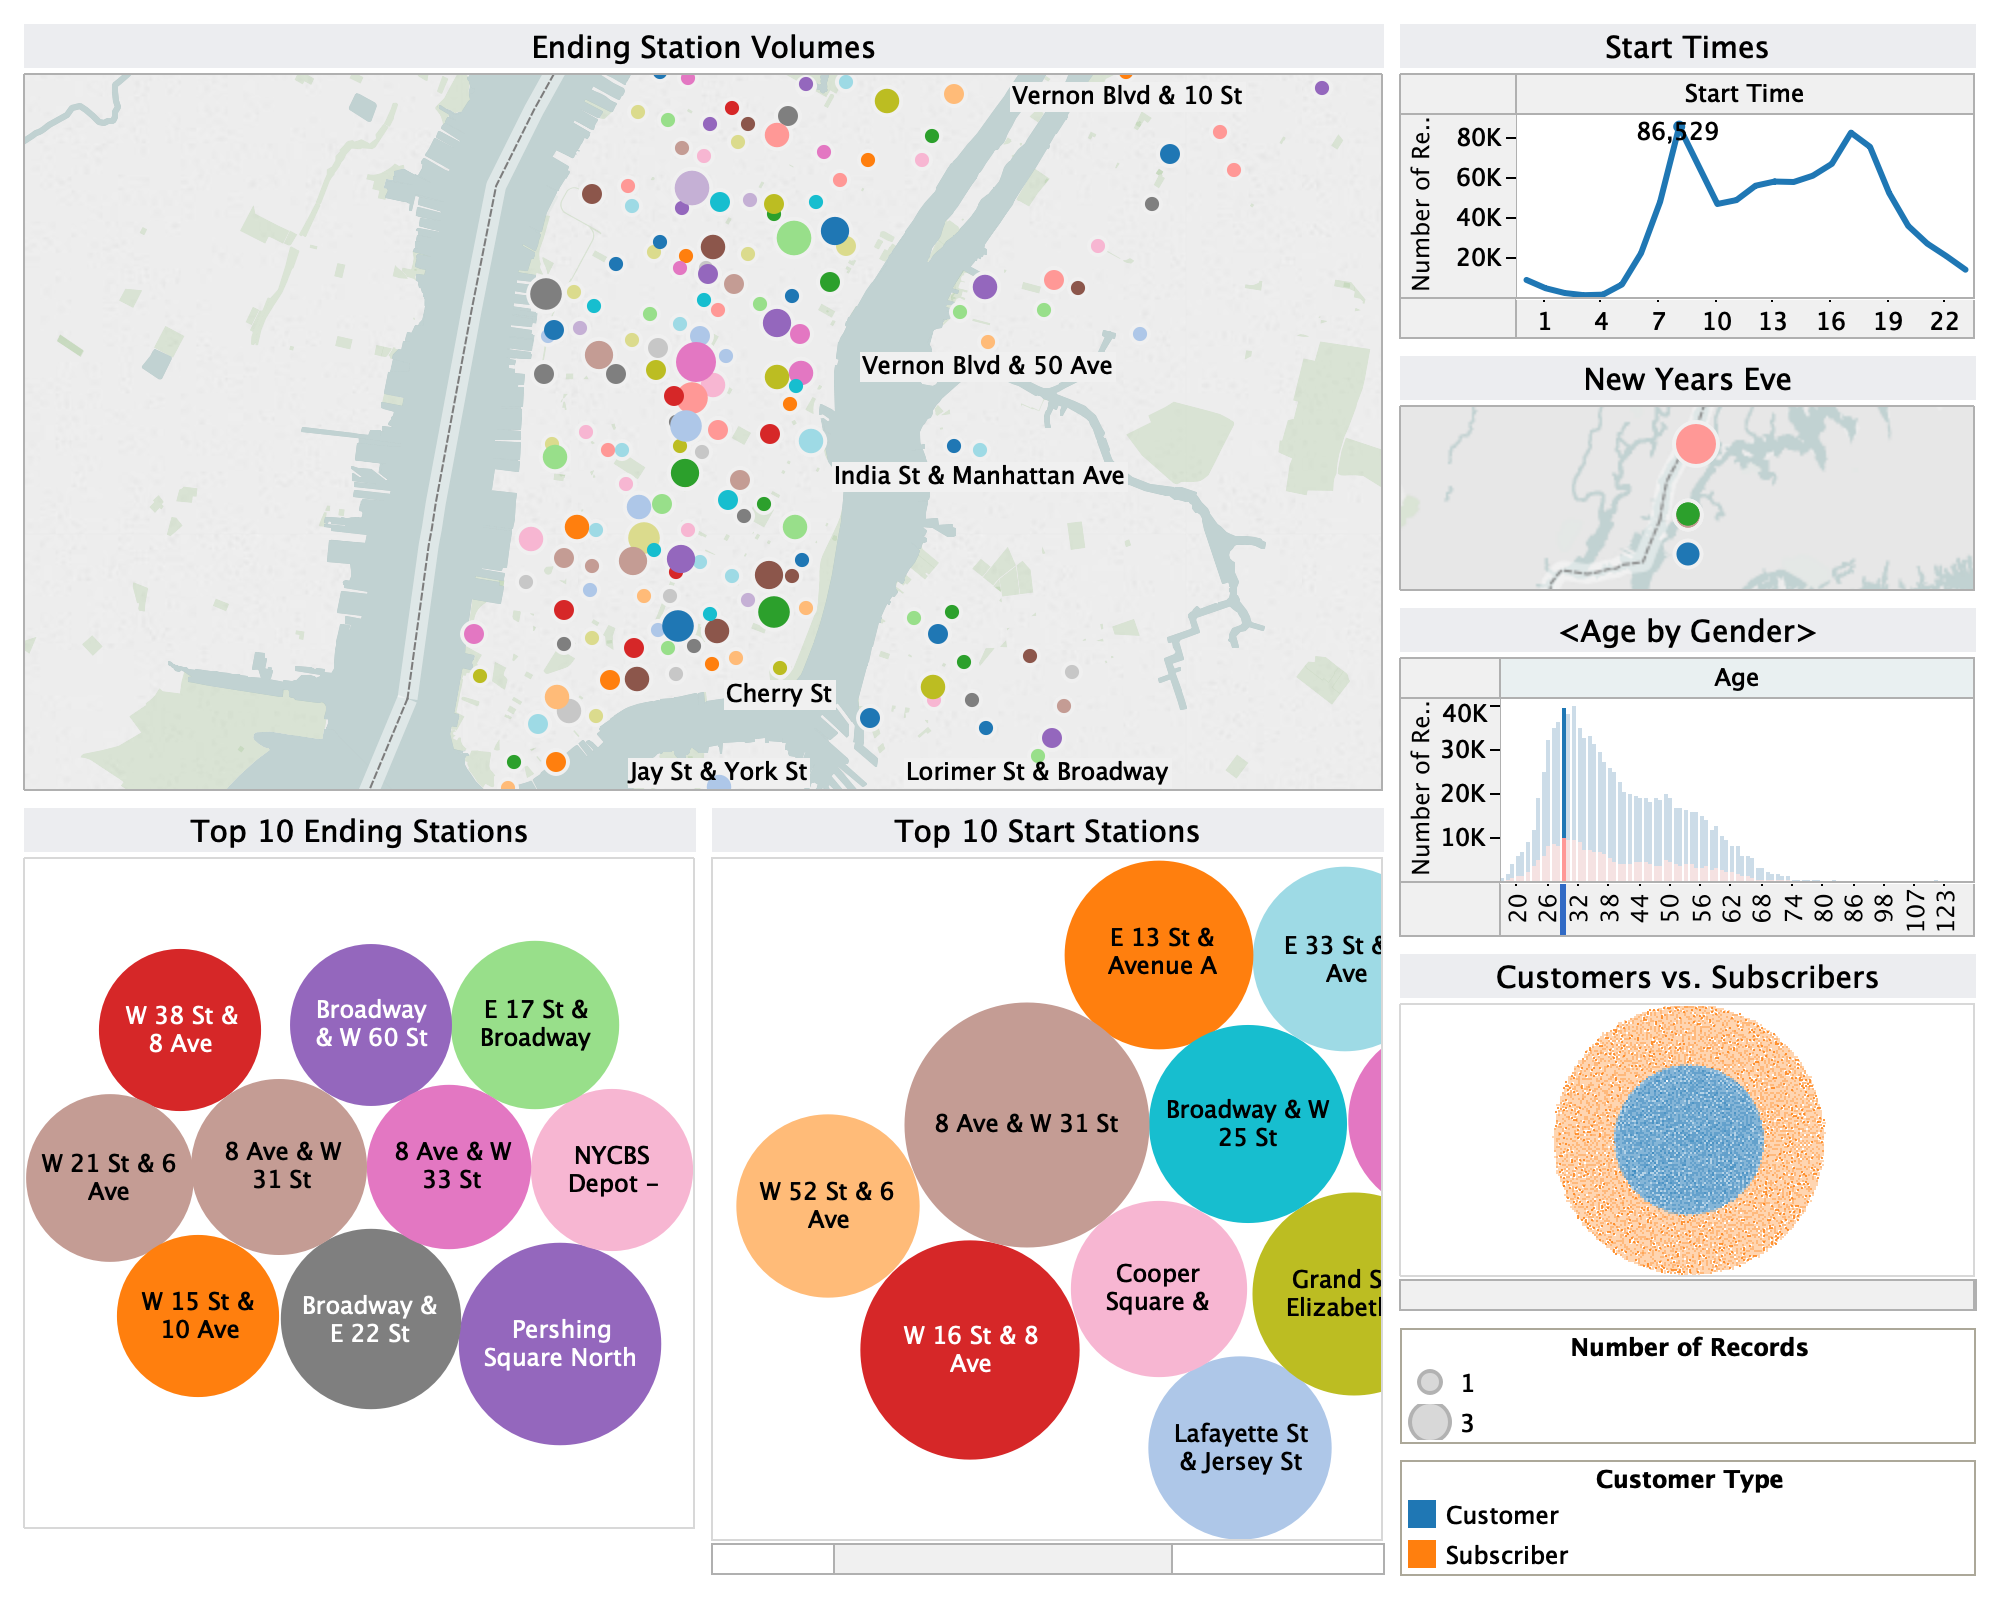

What the dashboard file says about the page in this screenshot:
{"tool":"tableau","page":{"name":"Dashboard 1","canvas":[1000,800],"ordinal":0},"visuals":[{"type":"worksheet","title":"Ending Station Volumes","mark":"Automatic","rows":["End Station (Lat)"],"cols":["End Station (Lon)"],"box":[8,8,688,392]},{"type":"worksheet","title":"Start Times","mark":"Line","rows":["Number of Records"],"cols":["Start Time"],"box":[696,8,296,166]},{"type":"worksheet","title":"New Years Eve","mark":"Automatic","rows":["End Station (Lat)"],"cols":["End Station (Lon)"],"box":[696,174,296,126]},{"type":"worksheet","title":"Age By Gender","mark":"Automatic","rows":["Number of Records"],"cols":["Age"],"box":[696,300,296,173]},{"type":"worksheet","title":"10 Endings","mark":"Circle","box":[8,400,344,392]},{"type":"worksheet","title":"10 Starts","mark":"Circle","box":[352,400,344,392]},{"type":"worksheet","title":"Customer Circle","mark":"Circle","box":[696,473,296,187]},{"type":"legend","title":"New Years Eve","param":"[federated.1q11mc41qf77441geays11jnajqg].[sum:Number of Records:qk]","box":[696,660,296,66]},{"type":"legend","title":"Customer Circle","param":"[federated.1q11mc41qf77441geays11jnajqg].[none:Customer Type:nk]","box":[696,726,296,66]}]}

Visuals, with their boxes in screenshot pixels (x1, y1, x2, y2), scaled from the page's 1000x800 canvas onto the 2000x1600 screenshot:
"Ending Station Volumes" worksheet: 16/16/1392/800
"Start Times" worksheet (Line marks): 1392/16/1984/348
"New Years Eve" worksheet: 1392/348/1984/600
"Age By Gender" worksheet: 1392/600/1984/946
"10 Endings" worksheet (Circle marks): 16/800/704/1584
"10 Starts" worksheet (Circle marks): 704/800/1392/1584
"Customer Circle" worksheet (Circle marks): 1392/946/1984/1320
"New Years Eve" legend: 1392/1320/1984/1452
"Customer Circle" legend: 1392/1452/1984/1584
